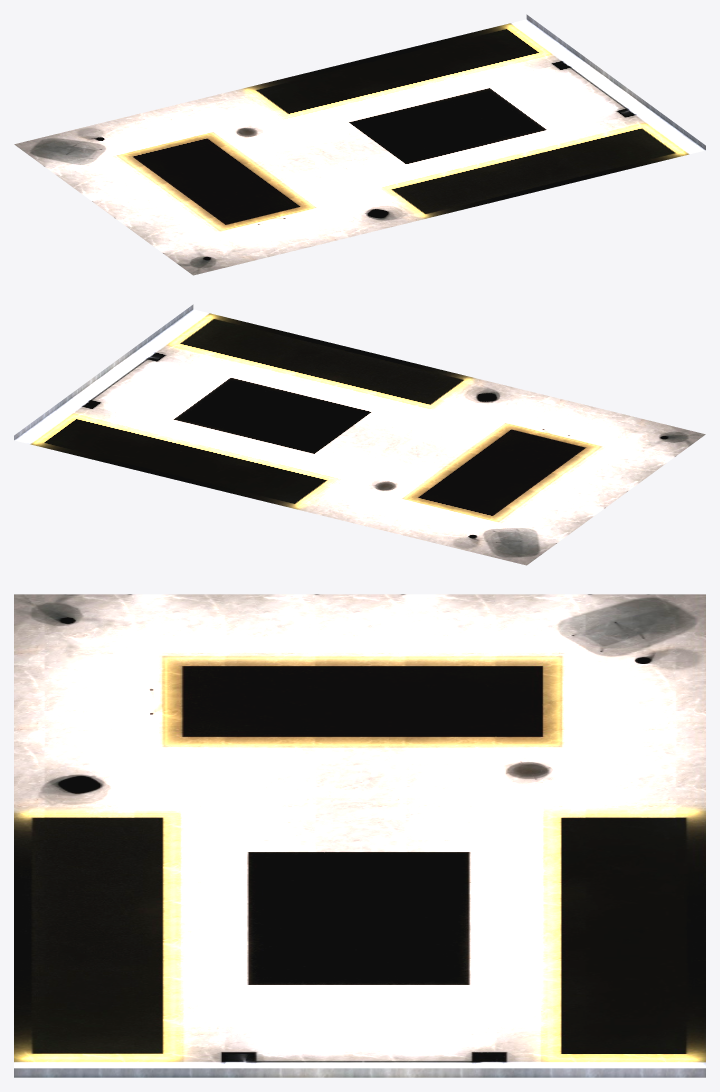
Rendered from Pearl_Grey.glb.
3 views of the same model, one above another, from view 1: azimuth 30°, elevation 25°; view 2: azimuth 150°, elevation 25°; view 3: azimuth 270°, elevation 25° (orthographic). The views are drawn at different scales.
Parts seen in each view (by area): view 1: Pearl_Grey; view 2: Pearl_Grey; view 3: Pearl_Grey.
Boxes of the visible parts, x1=… form: Pearl_Grey: x1=14, y1=14, x2=705, y2=275; Pearl_Grey: x1=14, y1=304, x2=705, y2=565; Pearl_Grey: x1=14, y1=594, x2=705, y2=1077.
Size of the model in its own units: 8.36 by 0.0748 by 5.06.
1 material, 1 textured.
